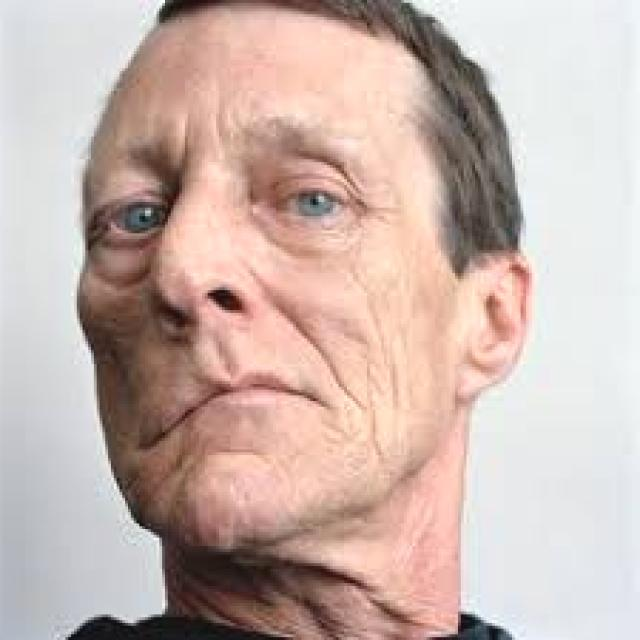stroke_face: (57, 73, 420, 570)
